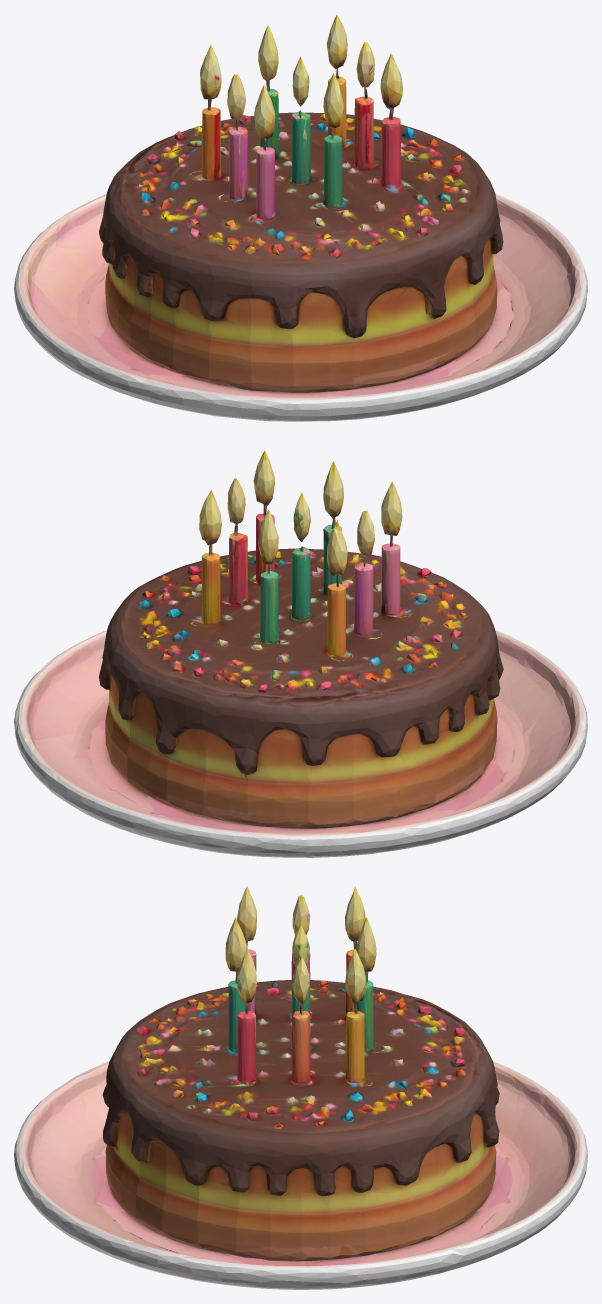
File: pasta.fbx
The picture shows the model from 3 angles, top to bottom: view 1: azimuth 30°, elevation 25°; view 2: azimuth 150°, elevation 25°; view 3: azimuth 270°, elevation 25°; orthographic projection.
Visible parts, largest first — view 1: temp; view 2: temp; view 3: temp.
Part boxes in pixels (left/top/right/bottom): temp: left=14, top=14, right=587, bottom=421; temp: left=14, top=450, right=587, bottom=857; temp: left=14, top=886, right=587, bottom=1289.
Bounding box in the file's own units: 200 × 110 × 200.
Materials: 1 (1 with a texture image).
